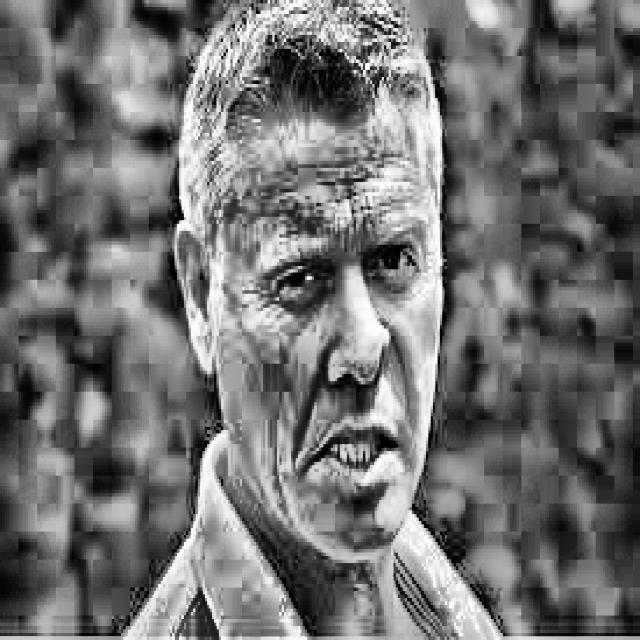angry: (171, 5, 461, 562)
